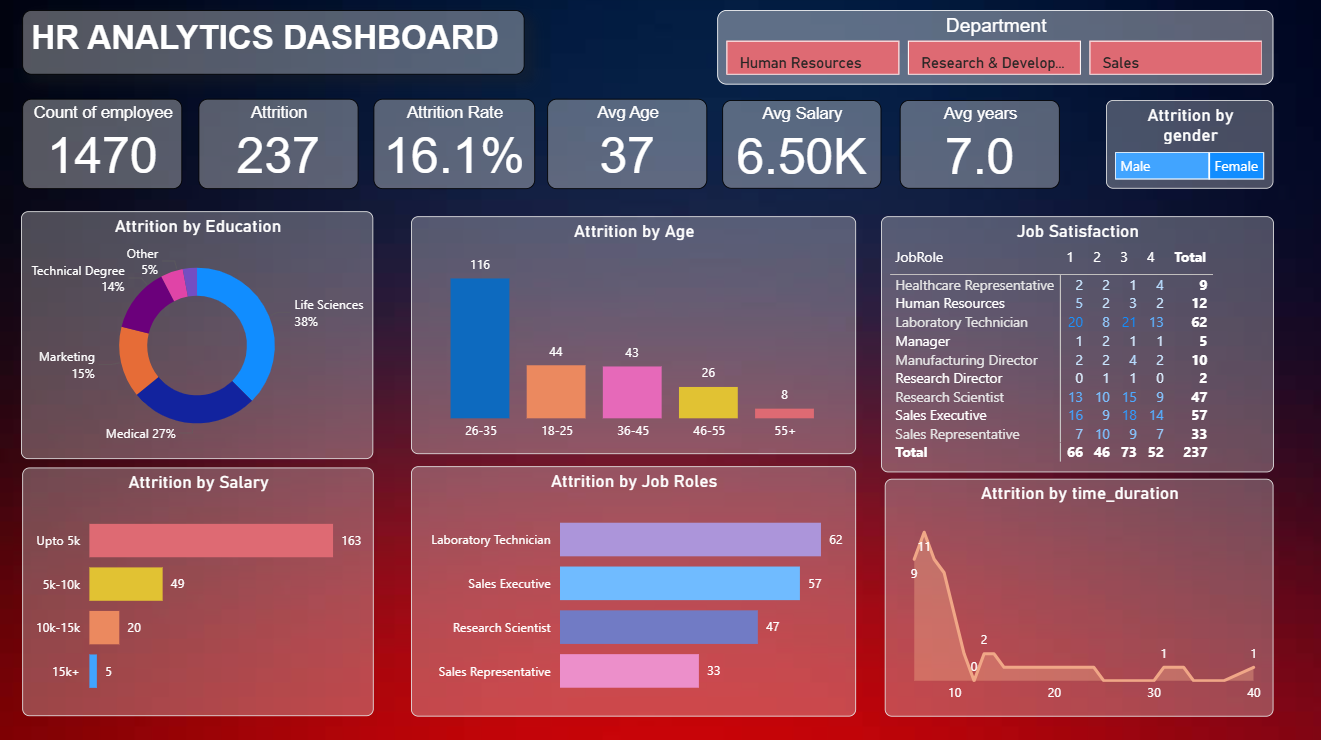

Layout of this report page (visuals, bound fields, positions):
{"tool":"powerbi","page":{"name":"Page 1","canvas":[1280,720],"ordinal":0},"visuals":[{"type":"card","title":"Count of employee","fields":{"Values":["CountNonNull(HR_Analytics.EmpID)"]},"box":[25.3,100.1,154.4,86.9],"z":0},{"type":"card","title":"Attrition","fields":{"Values":["Sum(HR_Analytics.AttritionCount)"]},"box":[195.4,100.1,154,86.9],"z":1000},{"type":"card","title":"Attrition Rate","fields":{"Values":["HR_Analytics.AttritionRate"]},"box":[364.3,100.1,155.6,86.9],"z":2000},{"type":"card","title":"Avg Age","fields":{"Values":["Avg(HR_Analytics.Age)"]},"box":[532,100.1,154.4,86.9],"z":3000},{"type":"card","title":"Avg Salary","fields":{"Values":["Avg(HR_Analytics.MonthlyIncome)"]},"box":[700.9,101.3,153.2,85.7],"z":4000},{"type":"card","title":"Avg years","fields":{"Values":["Avg(HR_Analytics.YearsAtCompany)"]},"box":[872.3,101.3,154.4,85.7],"z":5000},{"type":"donutChart","title":"Attrition by Education","fields":{"Category":["HR_Analytics.EducationField"],"Y":["Sum(HR_Analytics.AttritionCount)"]},"box":[24.1,208.7,340.2,238.9],"z":6000},{"type":"clusteredColumnChart","title":"Attrition by Age","fields":{"Category":["HR_Analytics.AgeGroup"],"Y":["Sum(HR_Analytics.AttritionCount)"]},"box":[400.5,213.5,429.5,229.2],"z":7000},{"type":"pivotTable","title":"Job Satisfaction","fields":{"Rows":["HR_Analytics.JobRole"],"Columns":["HR_Analytics.JobSatisfaction"],"Values":["Sum(HR_Analytics.AttritionCount)"]},"box":[854.2,213.5,378.8,247.3],"z":8000},{"type":"clusteredBarChart","title":"Attrition by Salary","fields":{"Category":["HR_Analytics.SalarySlab"],"Y":["Sum(HR_Analytics.AttritionCount)"]},"box":[25.3,456,339,240.1],"z":9000},{"type":"clusteredBarChart","title":"Attrition by Job Roles","fields":{"Category":["HR_Analytics.JobRole"],"Y":["Sum(HR_Analytics.AttritionCount)"]},"box":[400.5,454.8,429.5,241.3],"z":10000},{"type":"areaChart","title":"Attrition by time_duration","fields":{"Category":["HR_Analytics.YearsAtCompany"],"Y":["Sum(HR_Analytics.AttritionCount)"]},"box":[857.8,466.9,375.2,229.2],"z":11000},{"type":"treemap","title":"Attrition by gender","fields":{"Group":["HR_Analytics.Gender"],"Values":["Sum(HR_Analytics.AttritionCount)"]},"box":[1071.3,101.3,161.7,85.7],"z":12000},{"type":"advancedSlicerVisual","fields":{"Values":["HR_Analytics.Department"]},"box":[696.1,14.5,536.9,72.4],"z":13000},{"type":"textbox","box":[25.3,14.5,485,62.7],"z":14000}]}

Visuals, with their boxes in screenshot pixels (x1, y1, x2, y2), scaled from the page's 1280x720 canvas onto the 1321x740 screenshot:
"Count of employee" card: (26, 103, 185, 192)
"Attrition" card: (202, 103, 361, 192)
"Attrition Rate" card: (376, 103, 537, 192)
"Avg Age" card: (549, 103, 708, 192)
"Avg Salary" card: (723, 104, 881, 192)
"Avg years" card: (900, 104, 1060, 192)
"Attrition by Education" donutChart: (25, 214, 376, 460)
"Attrition by Age" clusteredColumnChart: (413, 219, 857, 455)
"Job Satisfaction" pivotTable: (882, 219, 1272, 474)
"Attrition by Salary" clusteredBarChart: (26, 469, 376, 715)
"Attrition by Job Roles" clusteredBarChart: (413, 467, 857, 715)
"Attrition by time_duration" areaChart: (885, 480, 1272, 715)
"Attrition by gender" treemap: (1106, 104, 1272, 192)
advancedSlicerVisual - HR_Analytics.Department: (718, 15, 1272, 89)
textbox: (26, 15, 527, 79)
